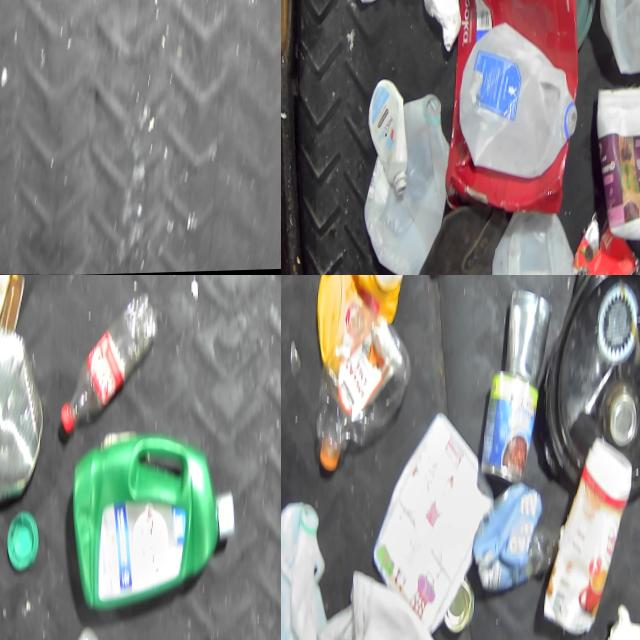can: (0, 319, 47, 516), (478, 367, 540, 491), (501, 285, 553, 391), (440, 574, 476, 637)
milk_jug: (453, 17, 580, 183), (358, 89, 450, 275), (309, 563, 461, 640), (281, 492, 330, 640), (489, 205, 578, 275)
non_white_jug: (64, 426, 238, 619), (312, 275, 405, 376)
plastic_bottle: (310, 318, 410, 477), (56, 287, 158, 438), (475, 520, 564, 597)
